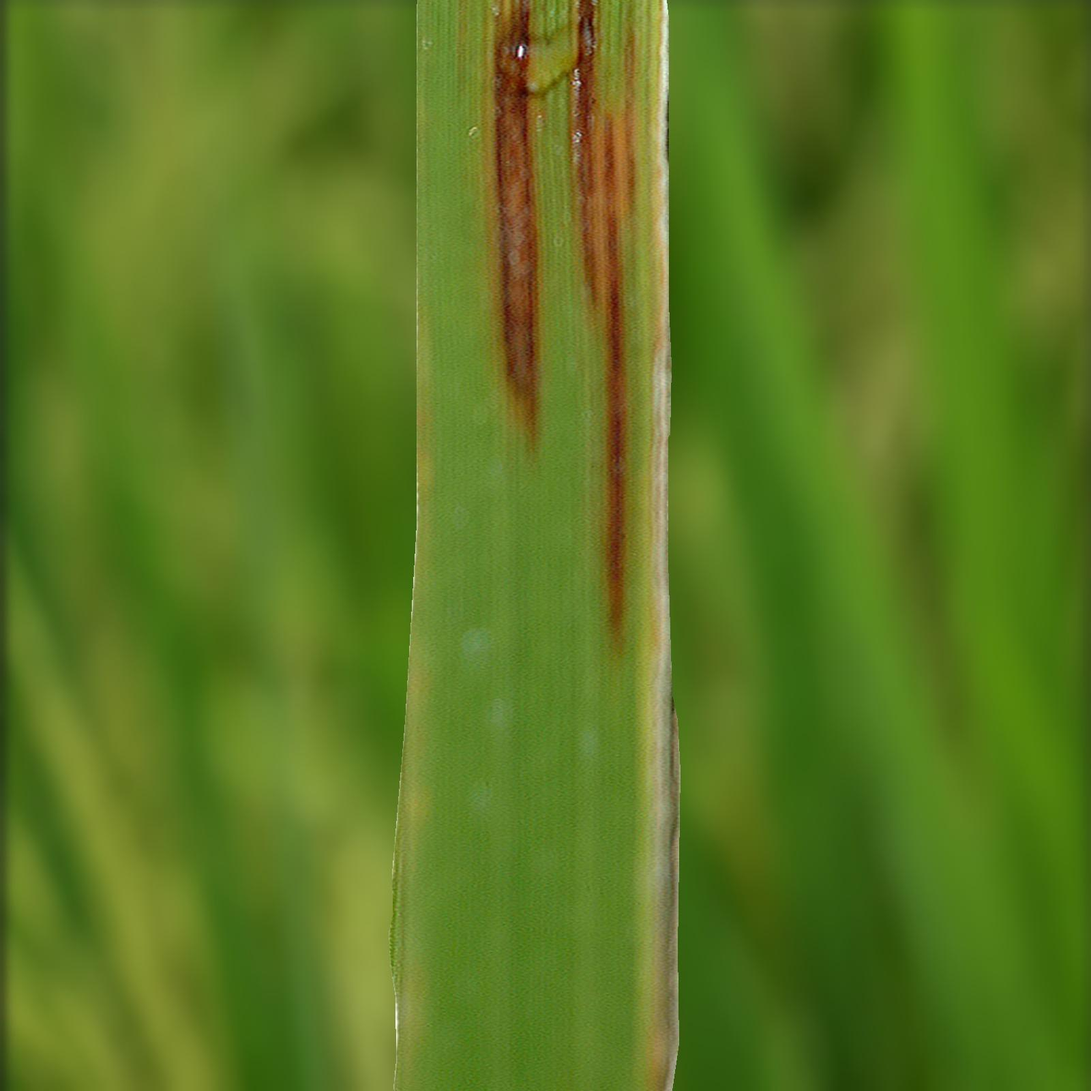LEAF: (389, 0, 680, 1090)
NBS: (571, 0, 631, 635), (494, 0, 544, 447), (625, 27, 636, 236)
